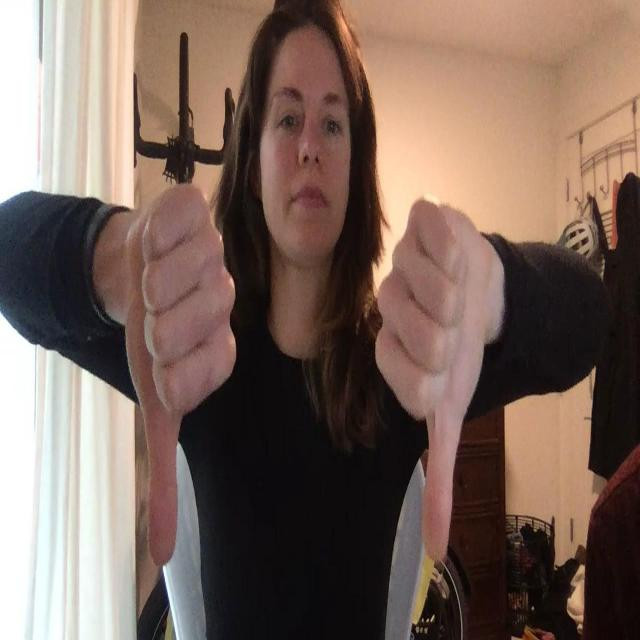face: (257, 44, 350, 272)
